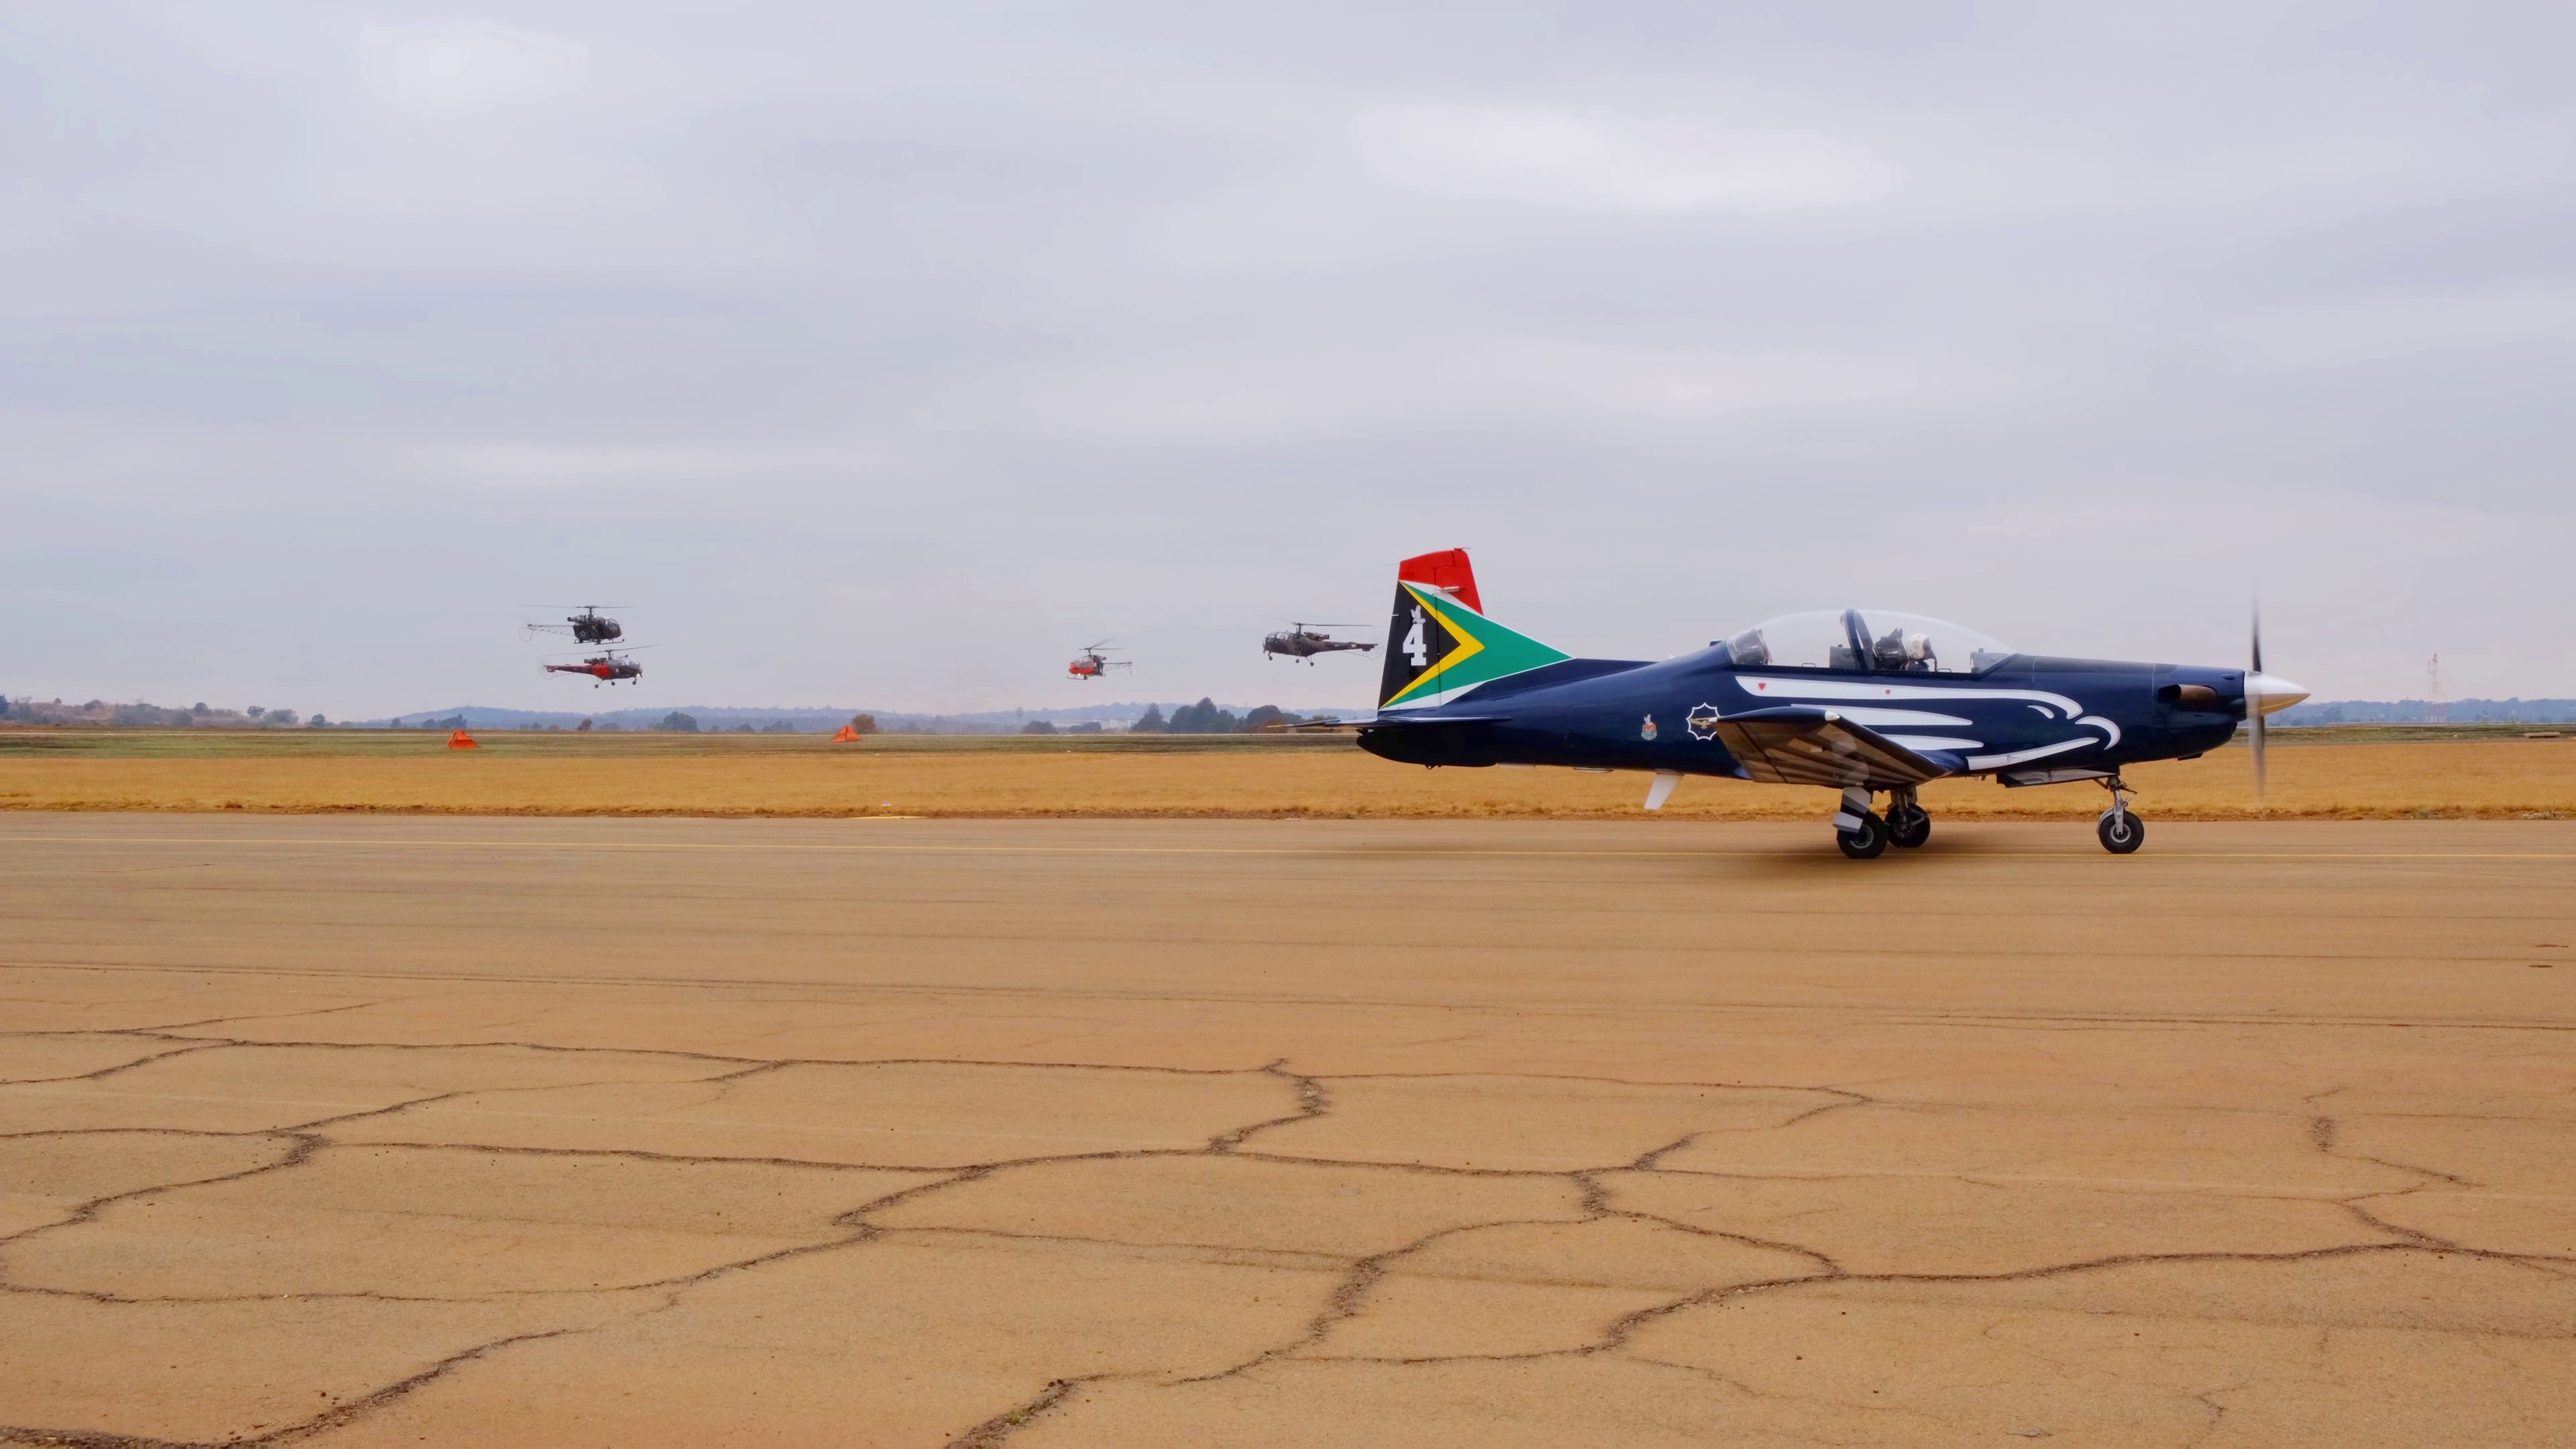heli: (1258, 614, 1382, 669), (525, 603, 635, 646), (545, 648, 655, 688), (1067, 635, 1132, 683)
plane: (1361, 550, 2309, 858)
